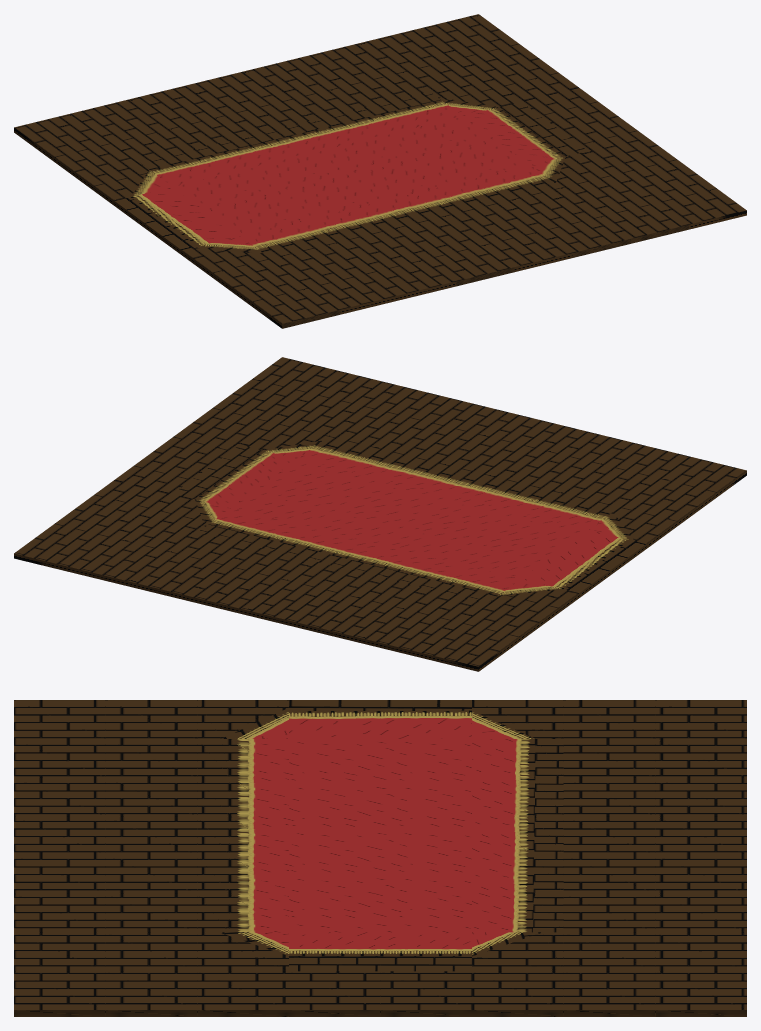
File: floorboard.fbx
The picture shows the model from 3 angles, top to bottom: view 1: azimuth 30°, elevation 25°; view 2: azimuth 150°, elevation 25°; view 3: azimuth 270°, elevation 25°; orthographic projection. The views are drawn at different scales.
Parts seen in each view (by area): view 1: Cube; view 2: Cube; view 3: Cube.
Part boxes in pixels (bbox=[...]): Cube: bbox=[14, 14, 746, 328]; Cube: bbox=[14, 357, 746, 671]; Cube: bbox=[14, 700, 746, 1016].
Size of the model in its own units: 1500 by 15.64 by 1500.
4 materials, 4 textured.
